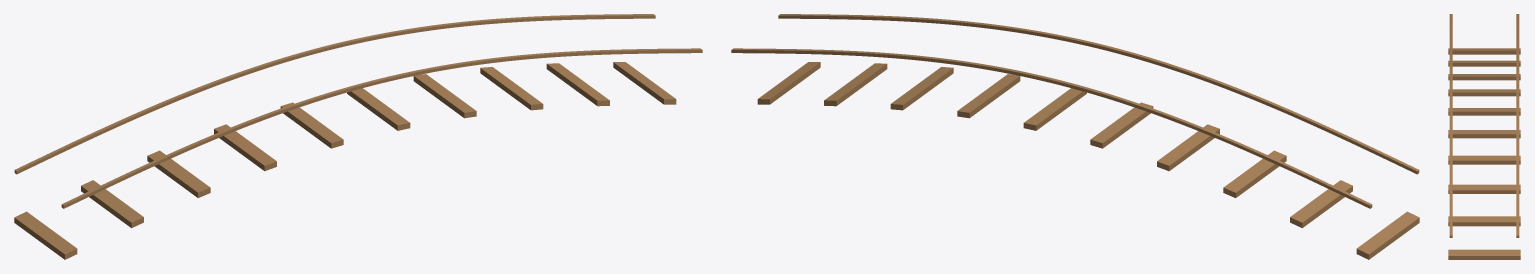
File: footbridge--bridge-heartwood.glb
The picture shows the model from 3 angles, left to right: view 1: azimuth 30°, elevation 25°; view 2: azimuth 150°, elevation 25°; view 3: azimuth 270°, elevation 25°; orthographic projection. The views are drawn at different scales.
Visible parts, largest first — view 1: footbridge; view 2: footbridge; view 3: footbridge.
Part boxes in pixels (x1=…): footbridge: x1=14, y1=14, x2=702, y2=259; footbridge: x1=731, y1=14, x2=1419, y2=259; footbridge: x1=1448, y1=14, x2=1520, y2=259.
Size of the model in its own units: 16 by 2.43 by 2.2.
